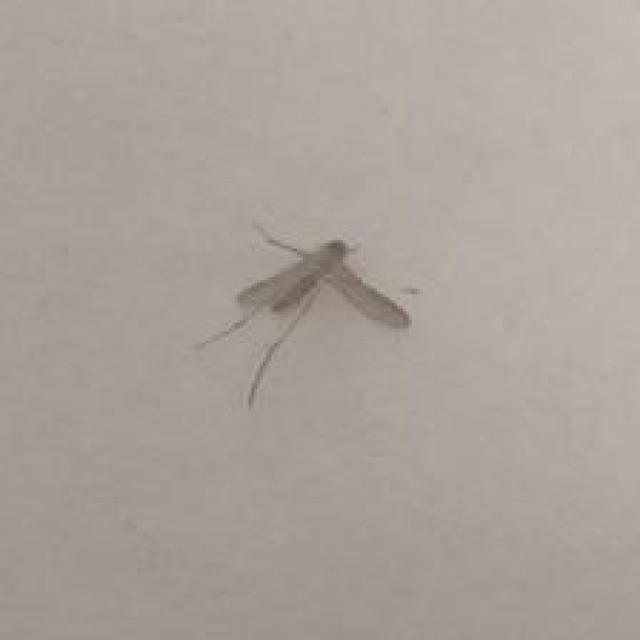Culex: (192, 219, 414, 410)
